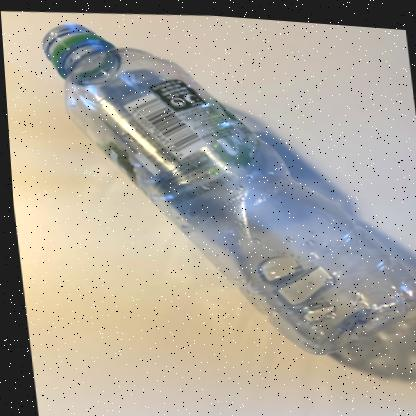Plastic: (42, 22, 416, 349)
